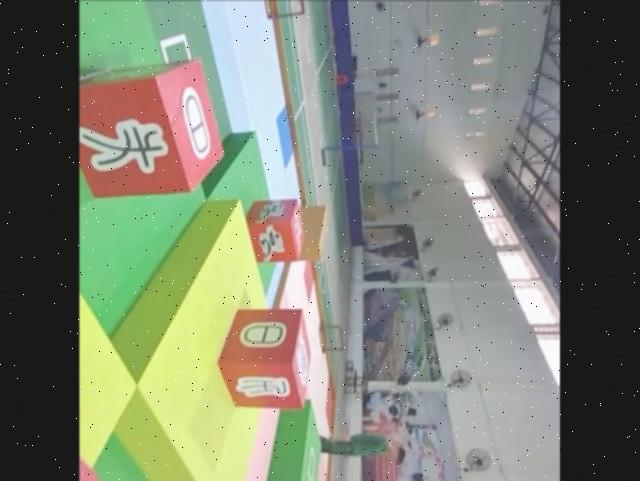R1: (247, 196, 309, 265)
R2 Fake: (80, 56, 229, 201), (216, 304, 314, 412)
